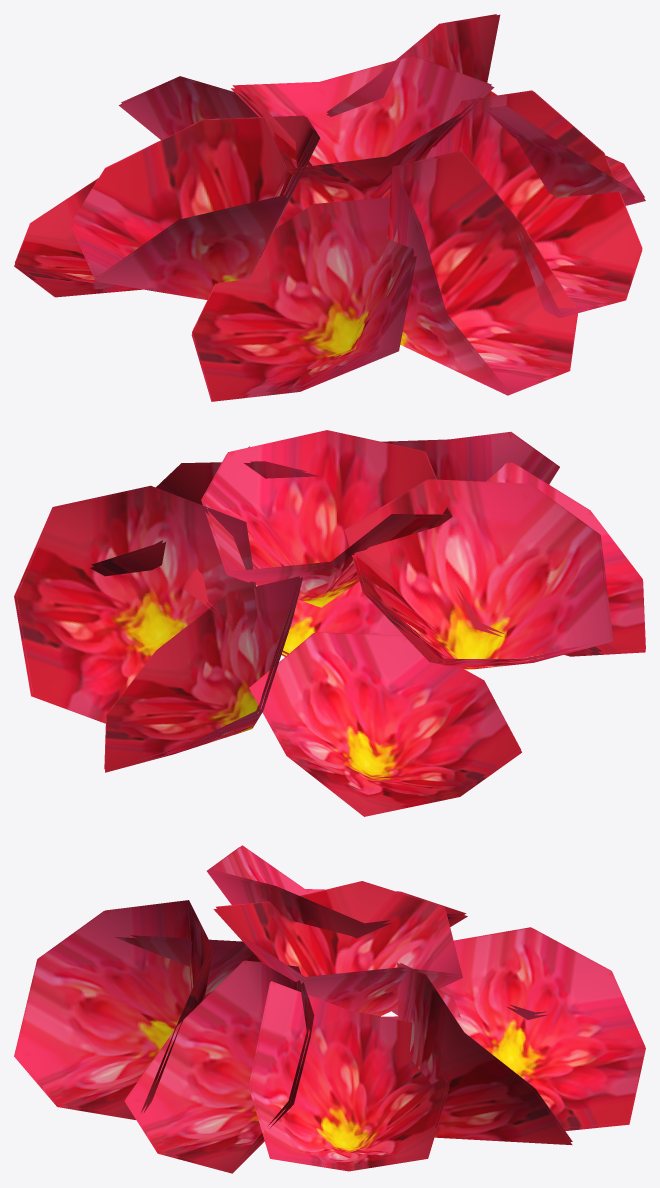
Rendered from flower_red_2.fbx.
3 views of the same model, one above another, from view 1: azimuth 30°, elevation 25°; view 2: azimuth 150°, elevation 25°; view 3: azimuth 270°, elevation 25° (orthographic). The views are drawn at different scales.
Visible parts, largest first — view 1: flower_red_2; view 2: flower_red_2; view 3: flower_red_2.
Boxes of the visible parts, <box> form: flower_red_2: <box>14,14,645,401</box>; flower_red_2: <box>14,430,645,816</box>; flower_red_2: <box>14,845,645,1173</box>.
Bounding box in the file's own units: 1.24 × 0.4772 × 1.35.
